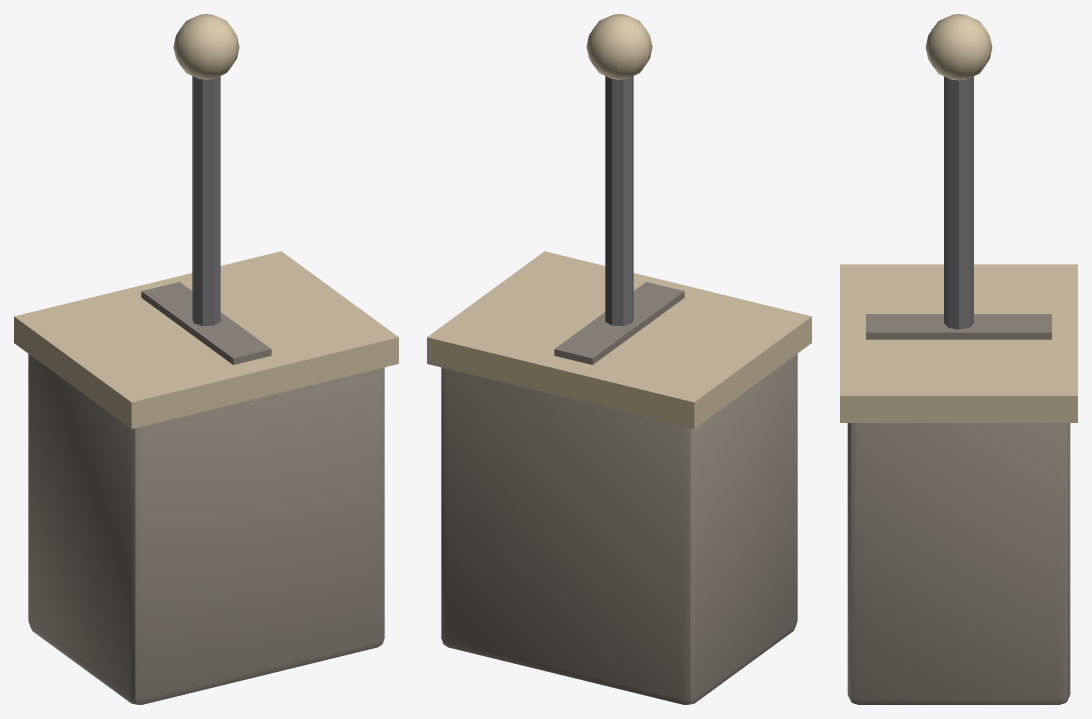
The model's file is dk_lever.gltf.
3 renders of one model, left to right at view 1: azimuth 30°, elevation 25°; view 2: azimuth 150°, elevation 25°; view 3: azimuth 270°, elevation 25°, orthographic.
Parts seen in each view (by area): view 1: Body, Handle; view 2: Body, Handle; view 3: Body, Handle.
Boxes of the visible parts, box(x1,y1,x2,y2) form: Body: box(14, 251, 398, 704); Handle: box(173, 14, 239, 325); Body: box(427, 251, 811, 704); Handle: box(586, 14, 652, 325); Body: box(840, 264, 1077, 704); Handle: box(925, 14, 992, 329).
Bounding box in the file's own units: 0.84 × 1.87 × 0.64.
